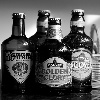beer: (1, 10, 41, 99)
